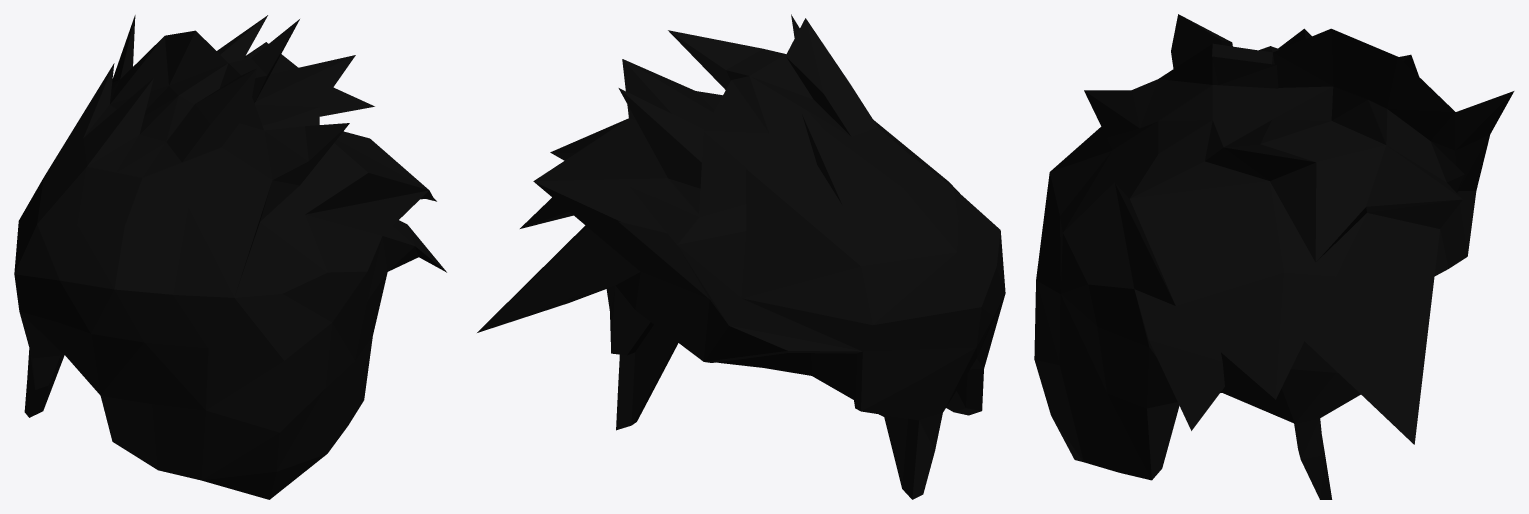
Rendered from roblox_hair2.glb.
3 renders of one model, left to right at view 1: azimuth 30°, elevation 25°; view 2: azimuth 150°, elevation 25°; view 3: azimuth 270°, elevation 25°, orthographic. The views are drawn at different scales.
Parts seen in each view (by area): view 1: Object_6; view 2: Object_6; view 3: Object_6.
Part boxes in pixels (x1=…): Object_6: x1=14, y1=15, x2=446, y2=499; Object_6: x1=477, y1=14, x2=1005, y2=499; Object_6: x1=1034, y1=14, x2=1514, y2=499.
Size of the model in its own units: 1.74 by 1.54 by 1.45.
Materials: 1 (1 with a texture image).
